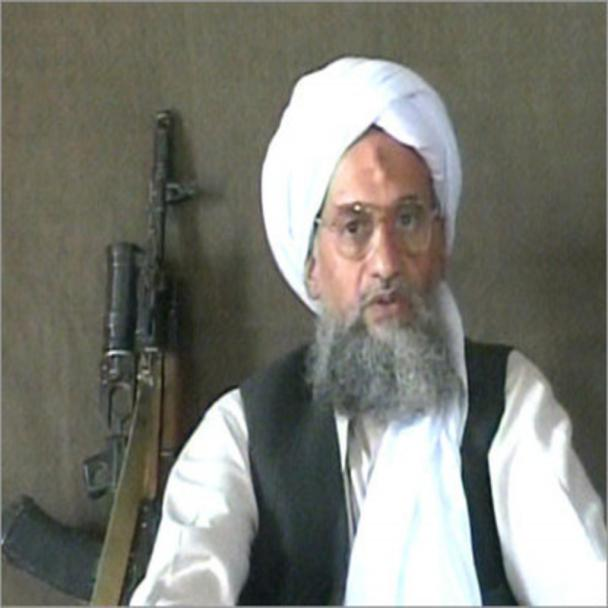Gun: (0, 102, 207, 608)
